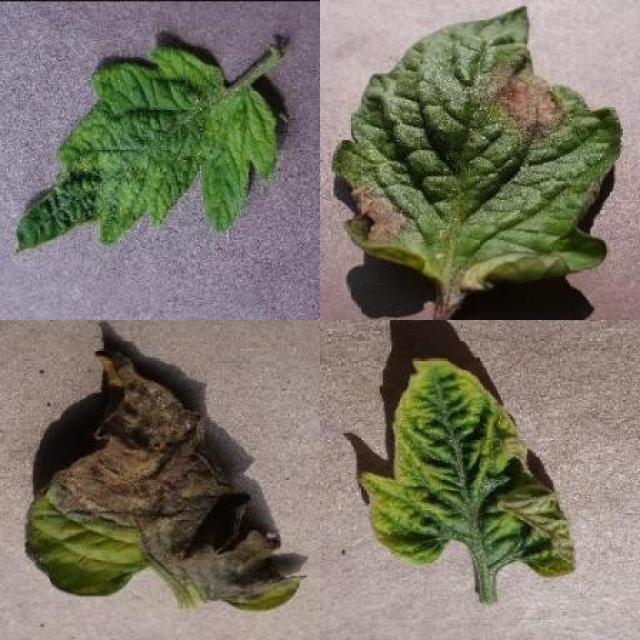Late Blight: (331, 3, 623, 294), (26, 350, 307, 613)
Mosaic Virus: (12, 48, 278, 258)
Yellow Leaf Curl Virus: (357, 357, 577, 580)
